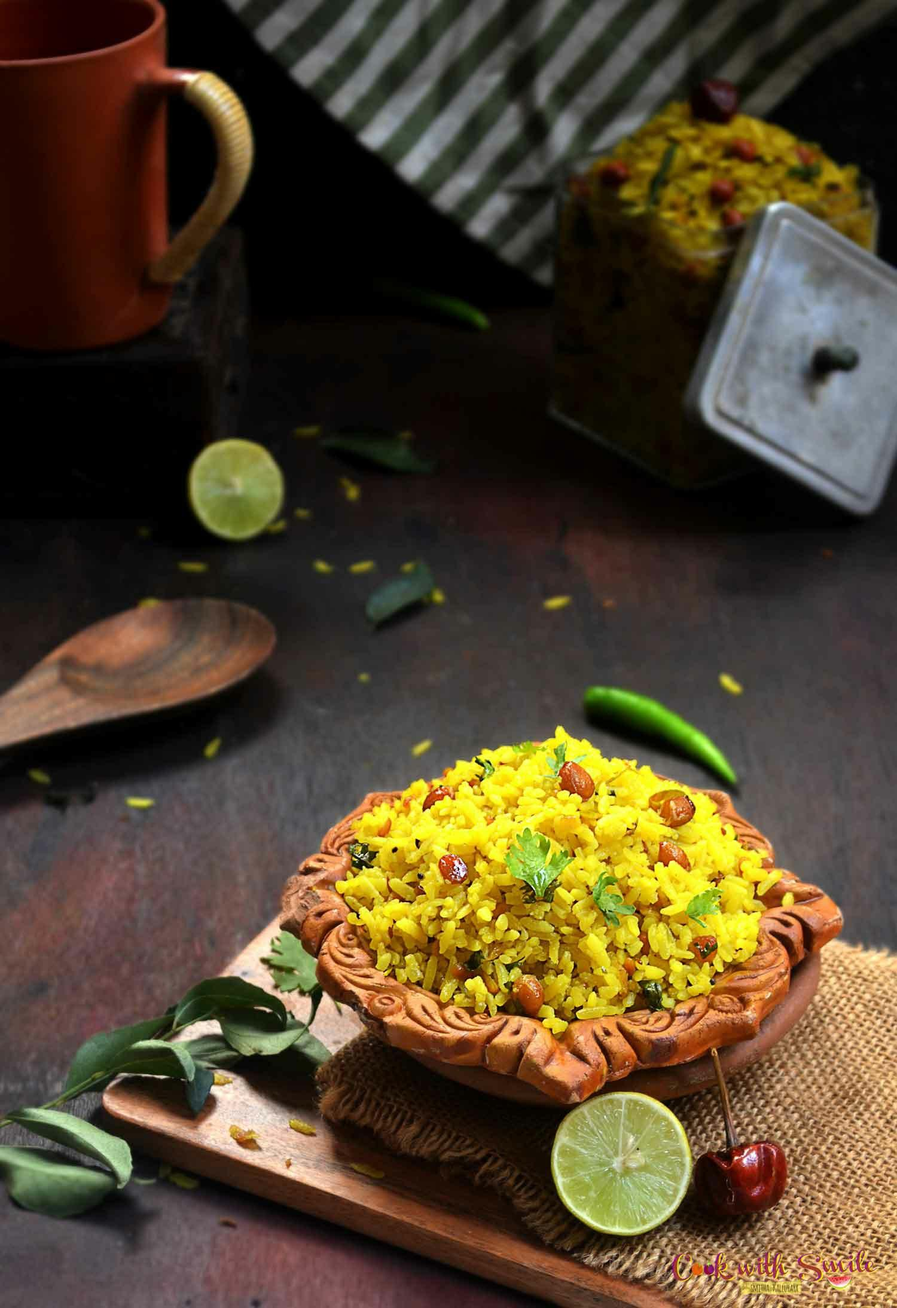Poha: (327, 724, 771, 1028)
